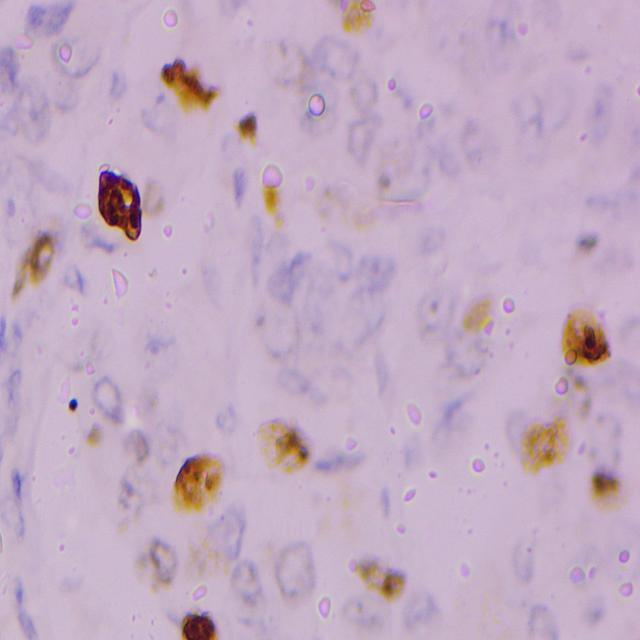Healthy cell: (0, 70, 49, 150), (346, 246, 398, 305), (49, 33, 100, 84), (272, 250, 320, 300), (402, 570, 438, 632), (23, 0, 81, 37), (317, 32, 361, 78), (266, 299, 298, 351), (90, 377, 122, 421), (528, 606, 564, 640), (346, 602, 384, 630)
cancer-cell-QiJm: (312, 172, 419, 254), (99, 169, 154, 254), (252, 416, 322, 476), (158, 59, 225, 117), (559, 308, 620, 370), (116, 466, 165, 542), (174, 452, 232, 516), (323, 436, 364, 524), (135, 536, 187, 603), (519, 416, 575, 476), (270, 44, 315, 118), (270, 540, 320, 604), (189, 520, 220, 616), (9, 233, 54, 294), (343, 114, 388, 170), (350, 556, 404, 596), (164, 606, 226, 640), (232, 558, 267, 618), (547, 372, 594, 415), (343, 69, 381, 115), (226, 113, 265, 156), (589, 471, 627, 514), (257, 180, 289, 226), (461, 300, 502, 335), (118, 422, 150, 466), (337, 0, 379, 30), (83, 421, 106, 458), (573, 233, 601, 254), (63, 399, 82, 416)
